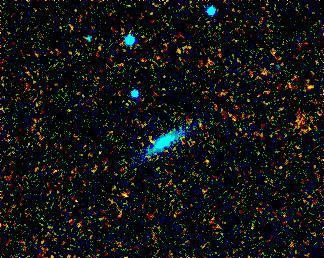star: (108, 182, 138, 212)
